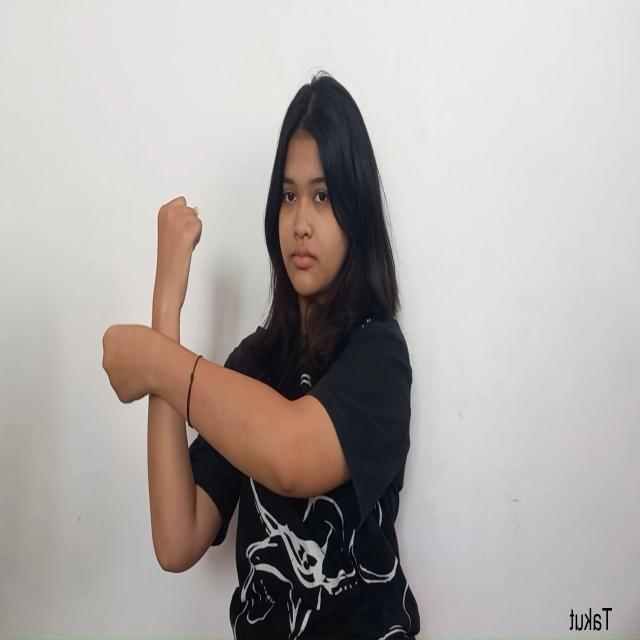Takut -BISINDO-: (101, 196, 202, 427)
